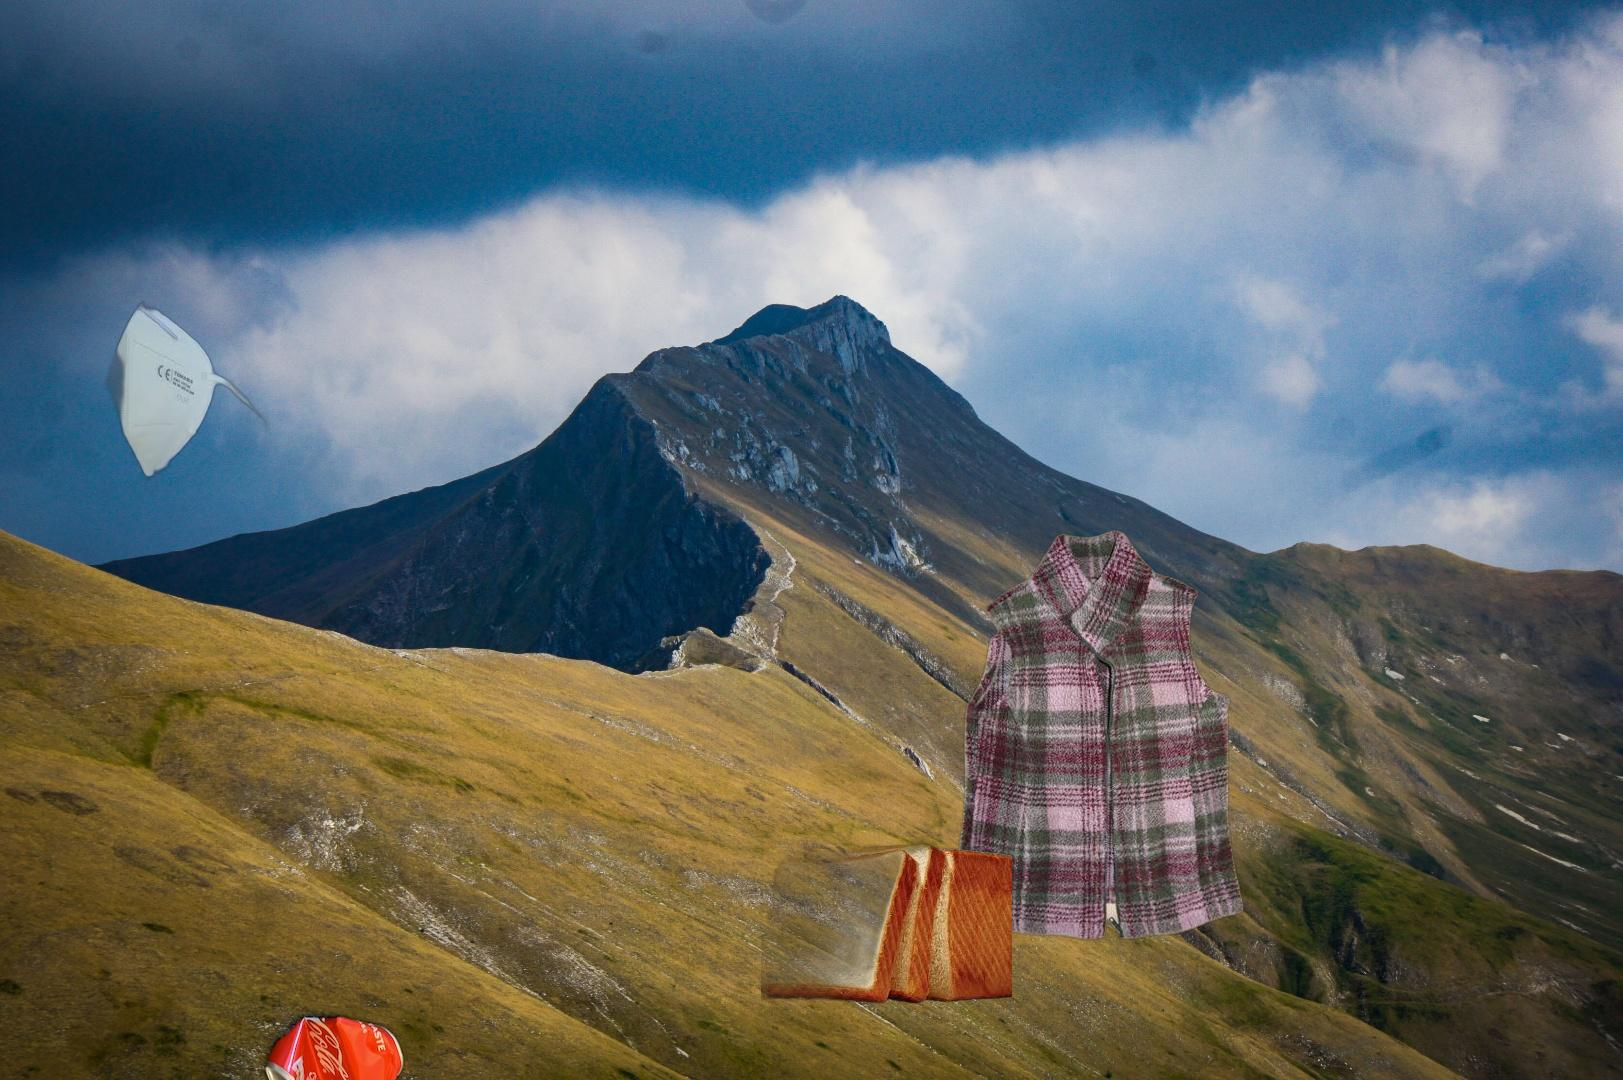biological: (761, 828, 1012, 1029)
clothes: (947, 526, 1246, 944)
metal-cans: (258, 1008, 408, 1080)
trash: (60, 299, 276, 485)
